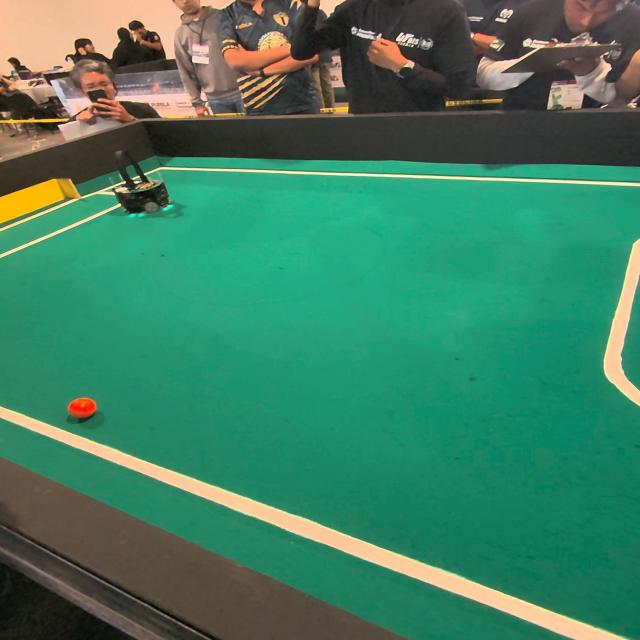Robot: (111, 152, 183, 230)
pelota: (67, 398, 97, 420)
